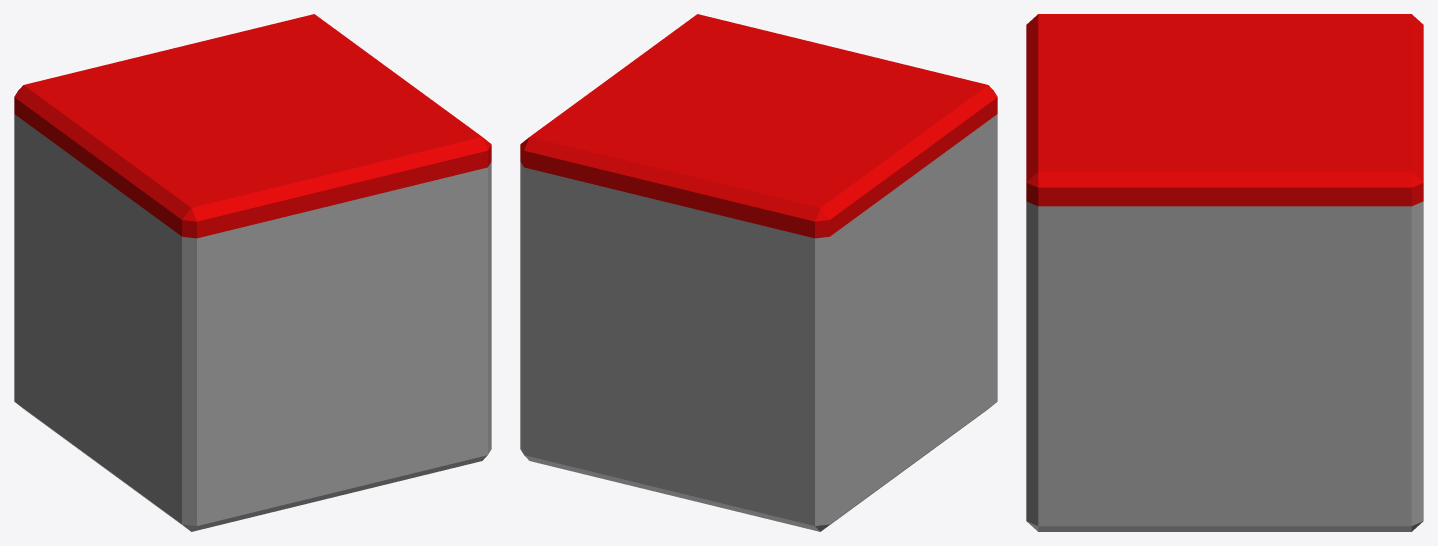
Rendered from BlockModel.fbx.
3 renders of one model, left to right at view 1: azimuth 30°, elevation 25°; view 2: azimuth 150°, elevation 25°; view 3: azimuth 270°, elevation 25°, orthographic. The views are drawn at different scales.
Parts seen in each view (by area): view 1: pCube1; view 2: pCube1; view 3: pCube1.
Boxes of the visible parts, x1,y1,x2,y2 form: pCube1: (14, 14, 491, 531); pCube1: (520, 14, 997, 531); pCube1: (1026, 14, 1423, 531).
Size of the model in its own units: 5 by 5 by 5.
